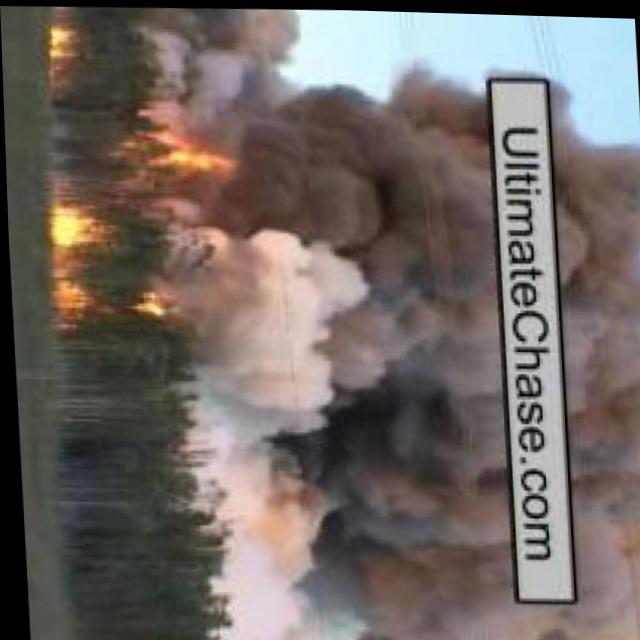Fire: (47, 198, 180, 326), (156, 143, 232, 181), (52, 24, 87, 80)
